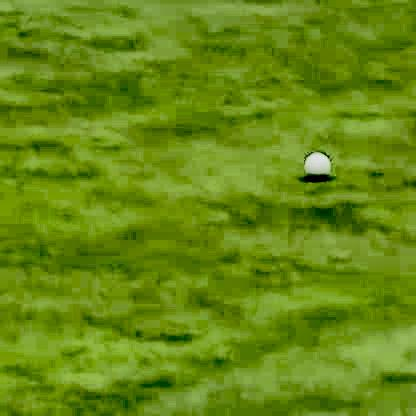golfball: (300, 148, 328, 178)
